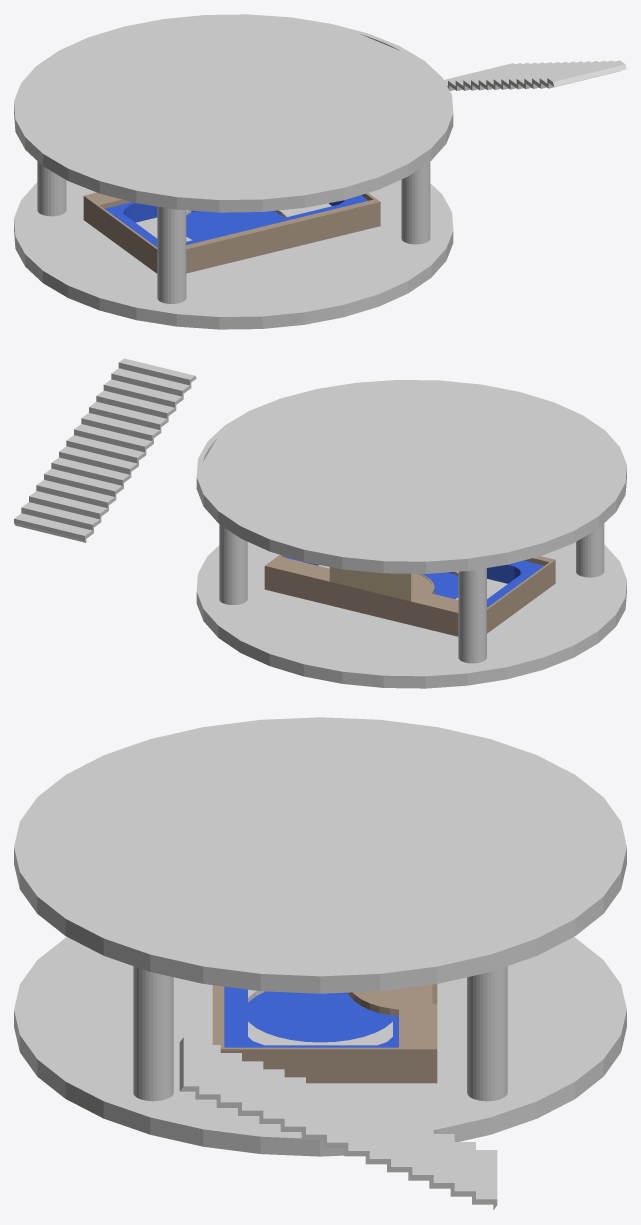
The model's file is hoboi.fbx.
3 renders of one model, top to bottom at view 1: azimuth 30°, elevation 25°; view 2: azimuth 150°, elevation 25°; view 3: azimuth 270°, elevation 25°, orthographic. The views are drawn at different scales.
Visible parts, largest first — view 1: choi, hoboi, Cube, cot4, cot3, cot1; view 2: choi, Cube, hoboi, cot1, cot2, cot4; view 3: choi, hoboi, Cube, cot2, cot3.
Part boxes in pixels (<box>): choi: <box>14,14,453,329</box>; hoboi: <box>83,192,380,273</box>; Cube: <box>444,60,626,90</box>; cot4: <box>157,206,186,303</box>; cot3: <box>401,162,430,244</box>; cot1: <box>37,161,66,216</box>; choi: <box>196,380,626,688</box>; Cube: <box>14,358,196,542</box>; hoboi: <box>264,555,555,636</box>; cot1: <box>458,568,486,663</box>; cot2: <box>219,524,247,604</box>; cot4: <box>576,523,604,577</box>; choi: <box>14,717,626,1156</box>; hoboi: <box>212,984,437,1083</box>; Cube: <box>179,1037,497,1209</box>; cot2: <box>467,966,507,1101</box>; cot3: <box>133,966,173,1101</box>.
Size of the model in its own units: 1960 by 455 by 1401.
